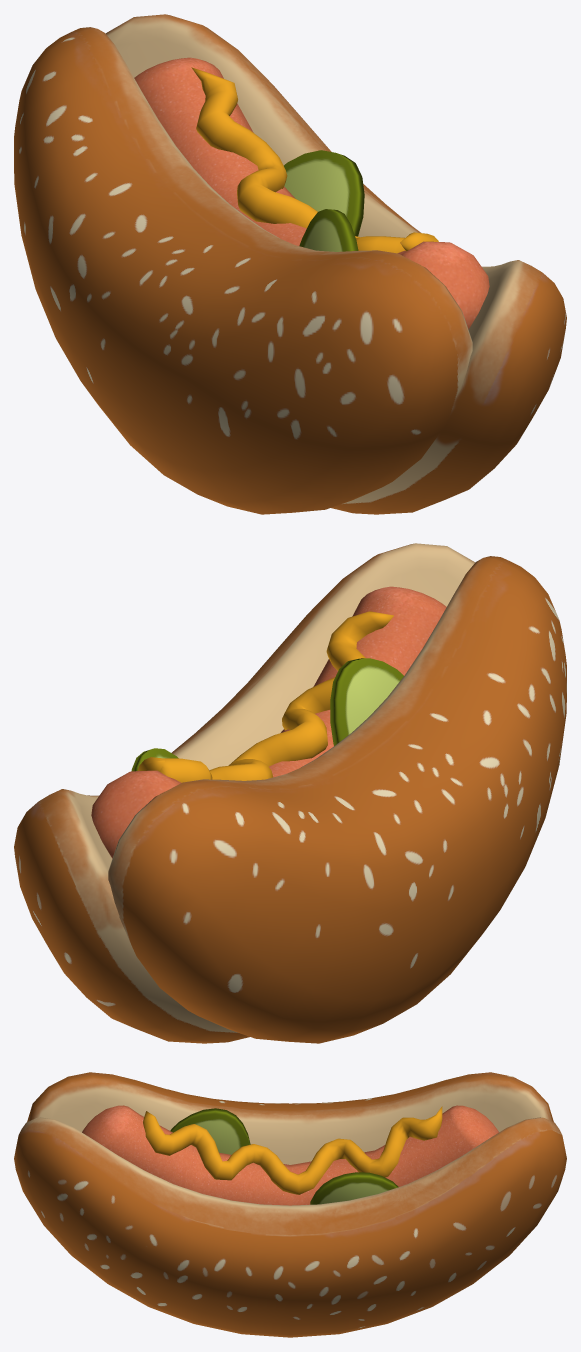
File: hotdog.glb
3 renders of one model, top to bottom at view 1: azimuth 30°, elevation 25°; view 2: azimuth 150°, elevation 25°; view 3: azimuth 270°, elevation 25°, orthographic. The views are drawn at different scales.
Visible parts, largest first — view 1: Object_2; view 2: Object_2; view 3: Object_2.
Part boxes in pixels (left/top/right/bottom): Object_2: left=14, top=14, right=566, bottom=514; Object_2: left=14, top=543, right=566, bottom=1043; Object_2: left=14, top=1072, right=566, bottom=1337.
Bounding box in the file's own units: 13.34 × 13.03 × 27.66.
1 material, 1 textured.
